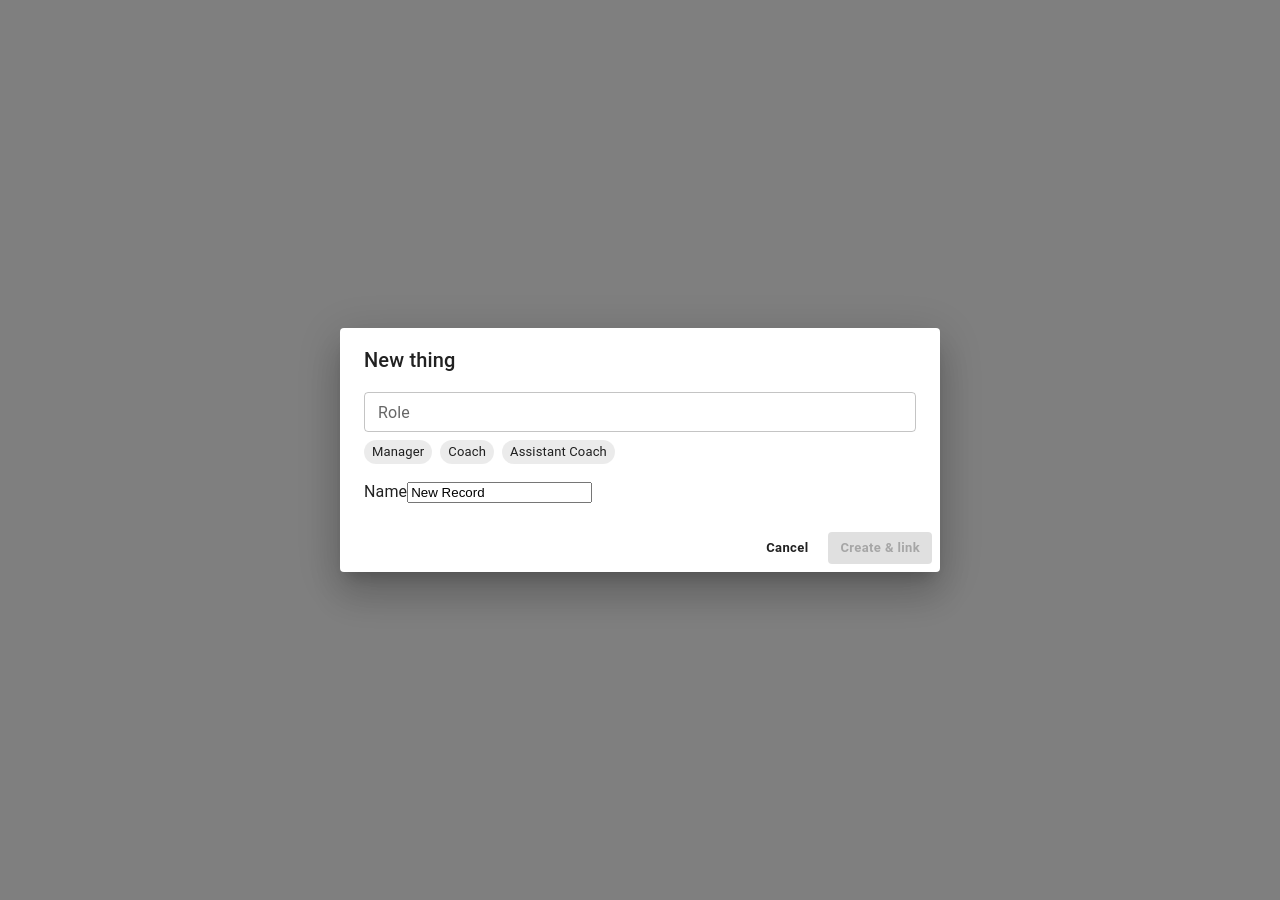
Test: CreateAndLinkRecordDialog › with an extraField › a quick-fill option populates the extra field without submitting
Click the button "Manager".
click(398, 452)  # box top-left (364, 440), bottom-right (432, 464)
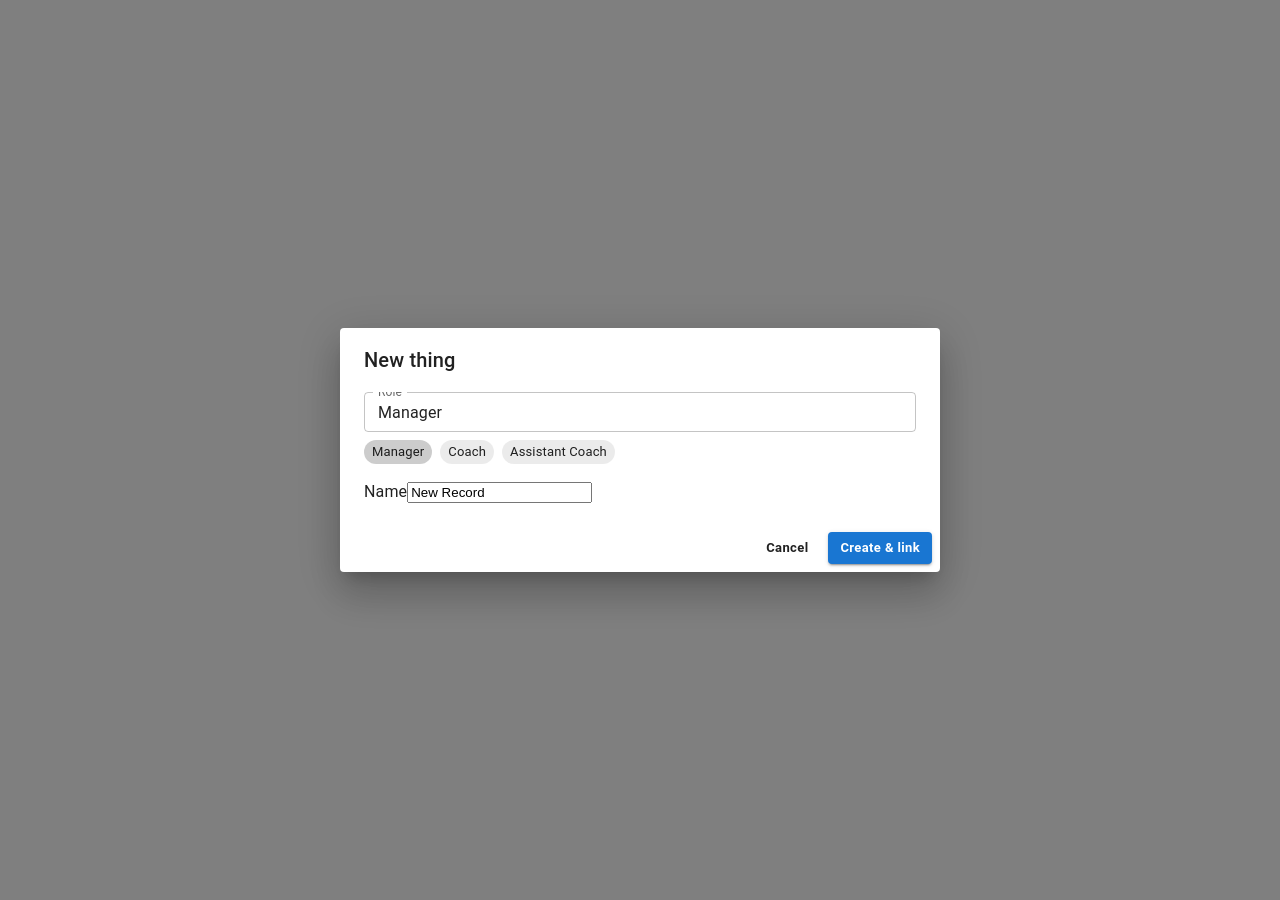
expect the field labelled "Role" holds "Manager": met, box top-left (364, 392), bottom-right (916, 432)
